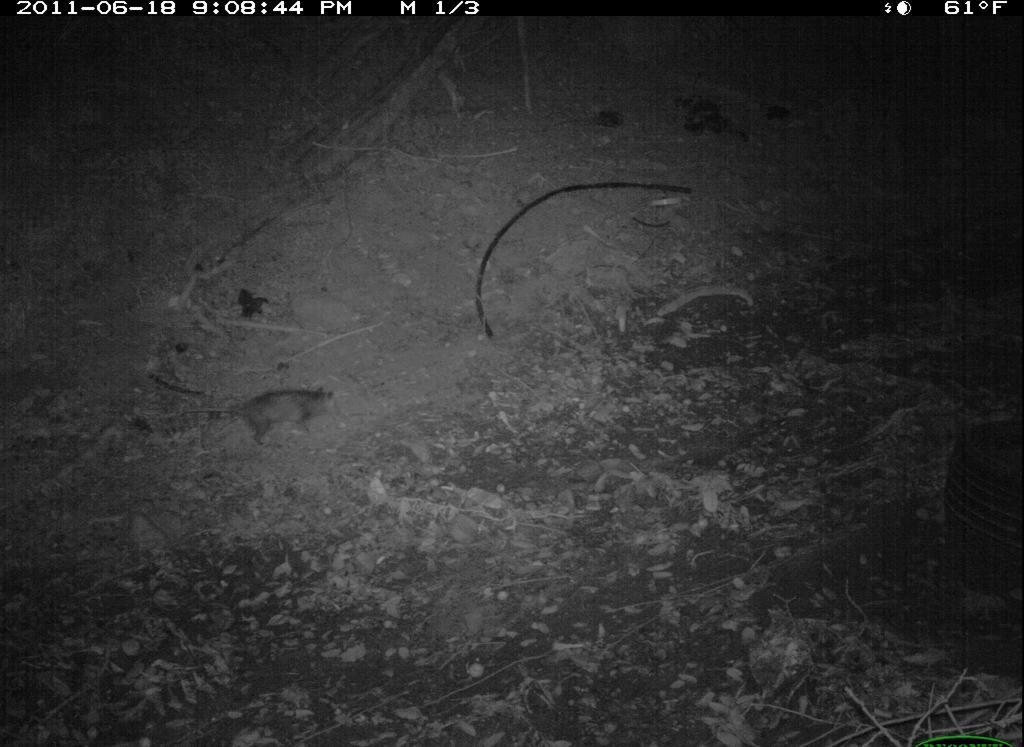opossum: (178, 381, 343, 449)
